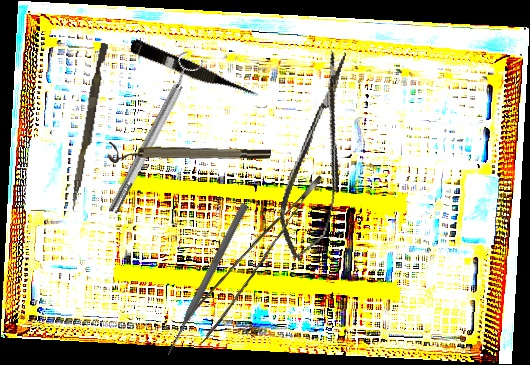Fixation Ring: (99, 49, 207, 218), (108, 141, 271, 169)
Micro Scissor: (269, 46, 370, 266), (127, 37, 262, 107)
Pusher: (163, 201, 250, 358), (69, 42, 109, 212)
Tissue Forceps: (172, 174, 348, 346)
